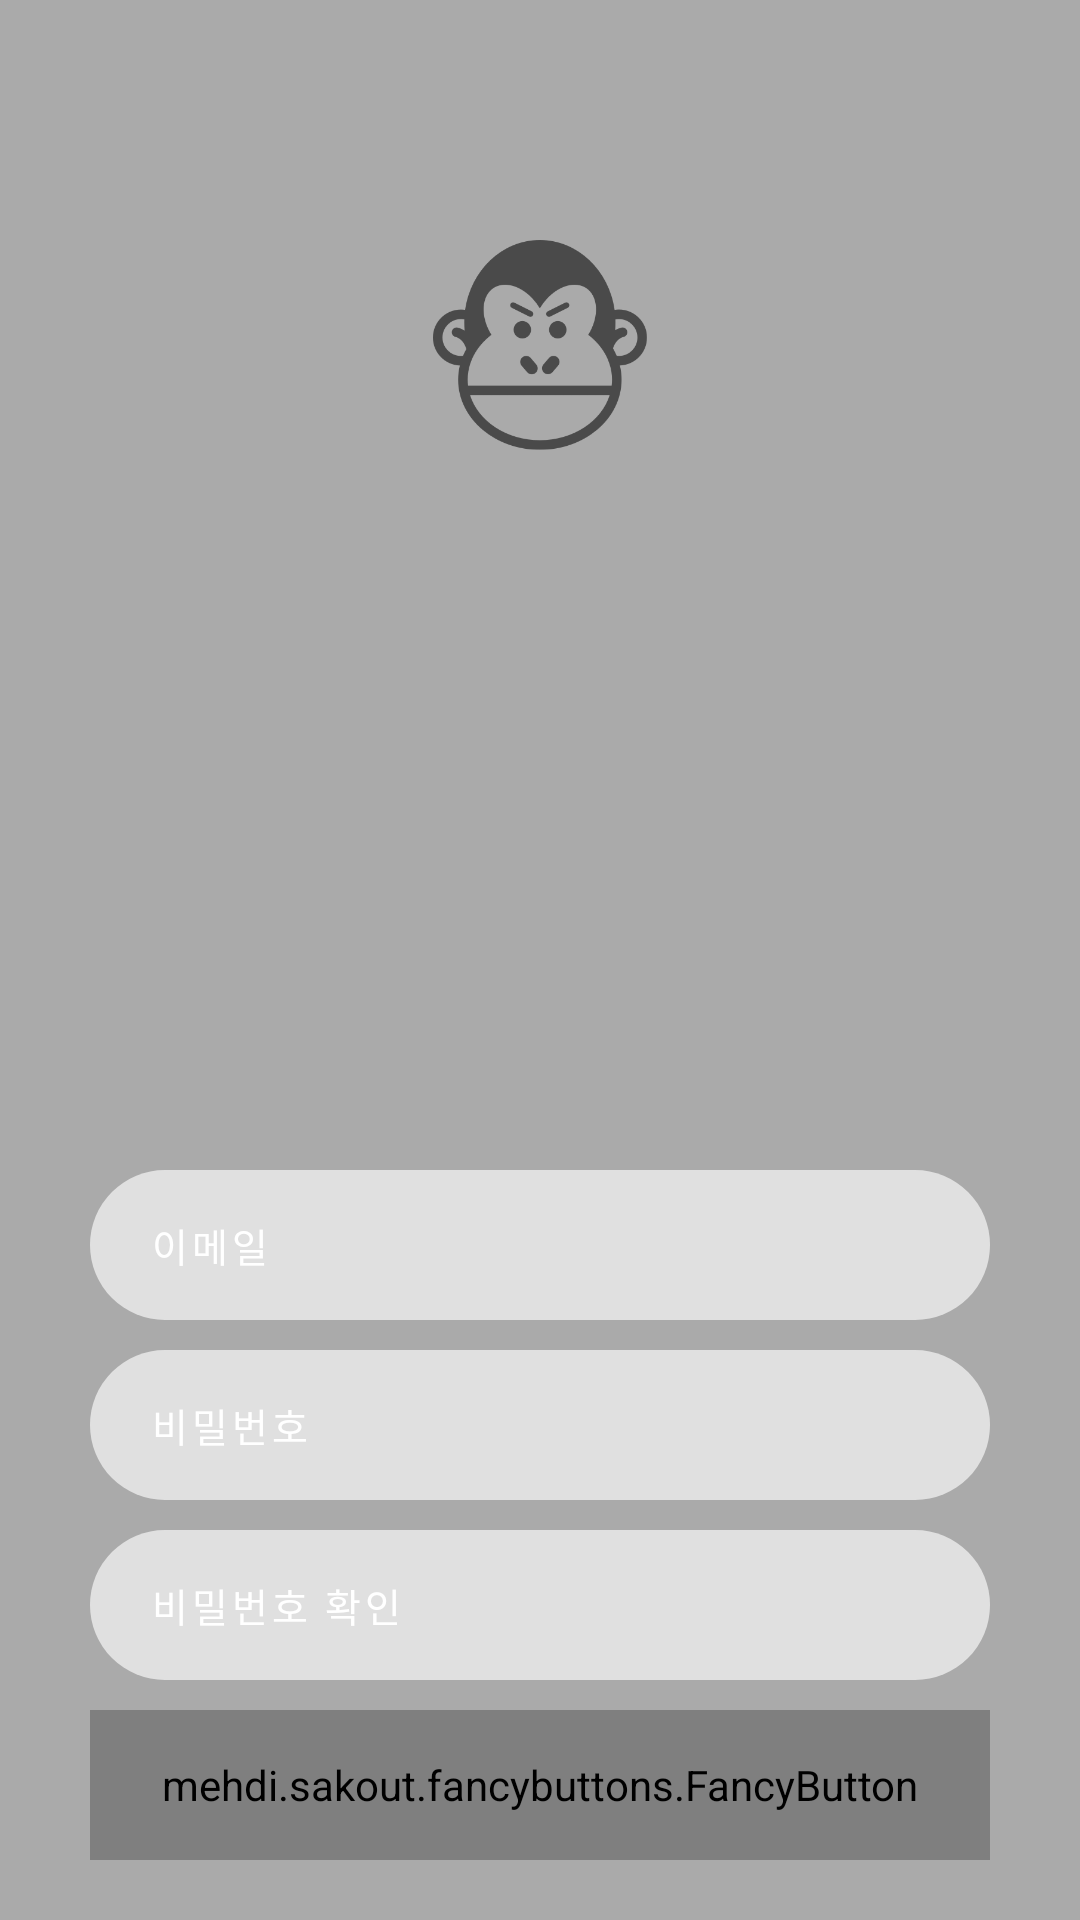

Screen size 1080px x 1920px. Icon name, then its center in pixels as point (x, y):
monkey: point (540, 345)
